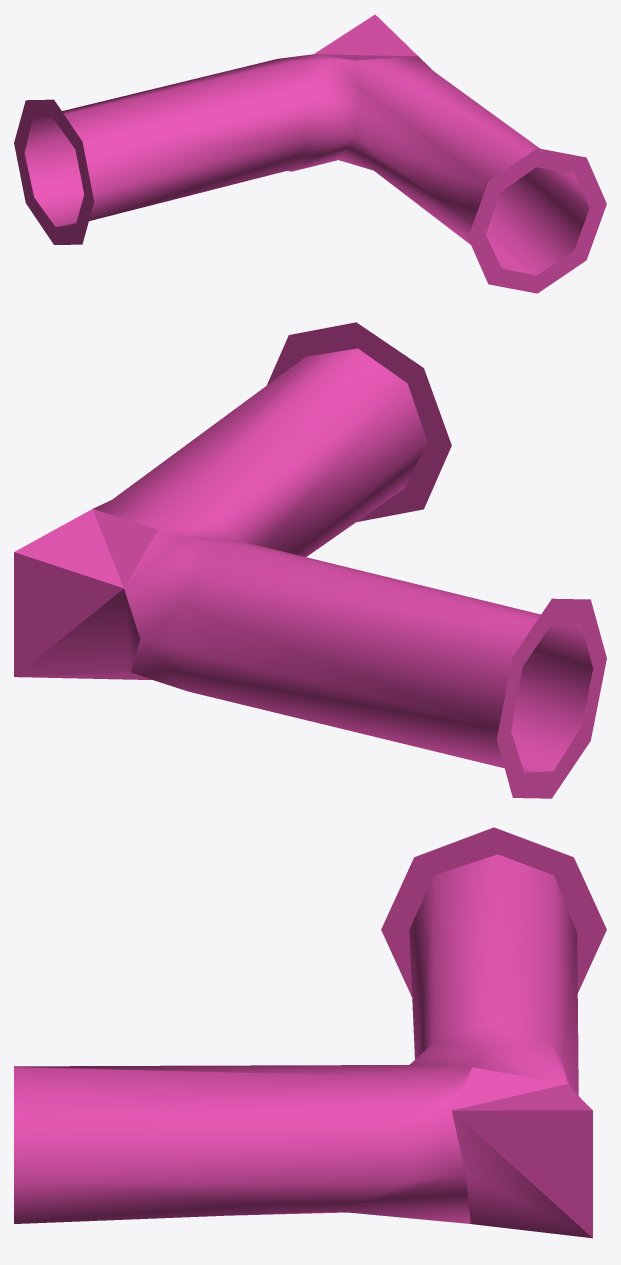
Rendered from Floor1_VentMesh.gltf.
3 renders of one model, top to bottom at view 1: azimuth 30°, elevation 25°; view 2: azimuth 150°, elevation 25°; view 3: azimuth 270°, elevation 25°, orthographic. The views are drawn at different scales.
Visible parts, largest first — view 1: Floor1_VentMesh; view 2: Floor1_VentMesh; view 3: Floor1_VentMesh.
Boxes of the visible parts, x1=… form: Floor1_VentMesh: x1=14, y1=14, x2=606, y2=293; Floor1_VentMesh: x1=14, y1=322, x2=606, y2=798; Floor1_VentMesh: x1=14, y1=827, x2=606, y2=1238.
Size of the model in its own units: 22 by 8 by 21.
